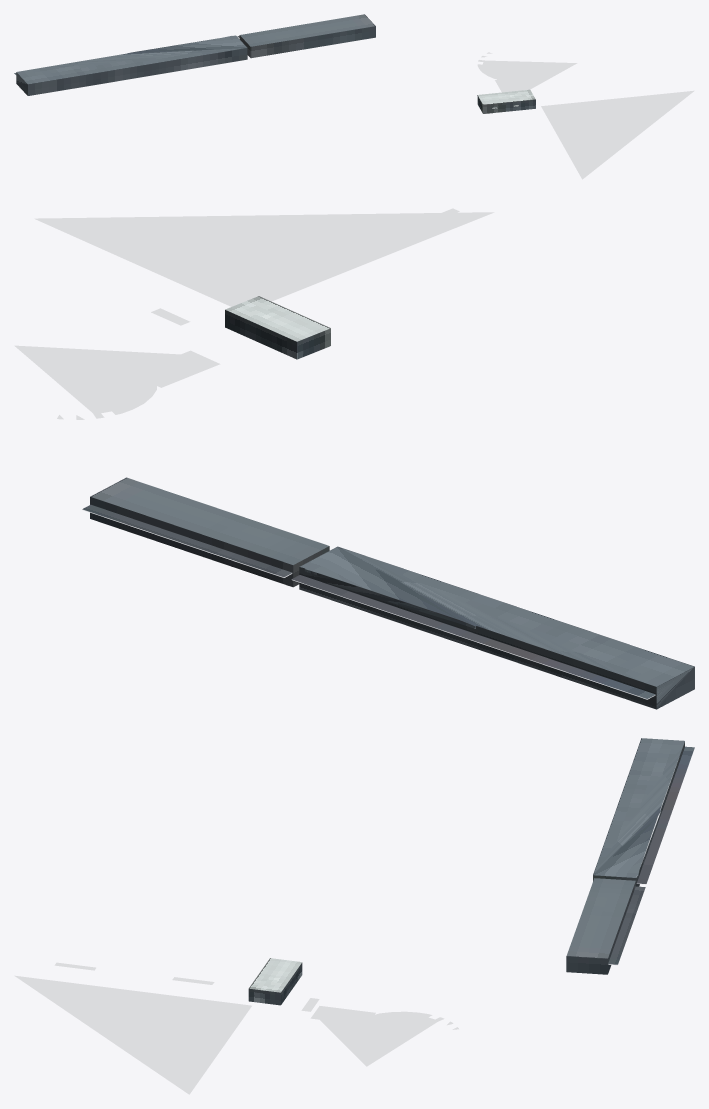
3 renders of one model, top to bottom at view 1: azimuth 30°, elevation 25°; view 2: azimuth 150°, elevation 25°; view 3: azimuth 270°, elevation 25°, orthographic. The views are drawn at different scales.
Visible parts, largest first — view 1: Buildings_建物パビリオン; view 2: Buildings_建物パビリオン; view 3: Buildings_建物パビリオン.
Part boxes in pixels (x1,y1,x2,y2): Buildings_建物パビリオン: [14, 14, 694, 179]; Buildings_建物パビリオン: [14, 208, 694, 709]; Buildings_建物パビリオン: [14, 738, 694, 1094].
Bounding box in the file's own units: 237 × 7.67 × 200.
4 materials, 3 textured.
